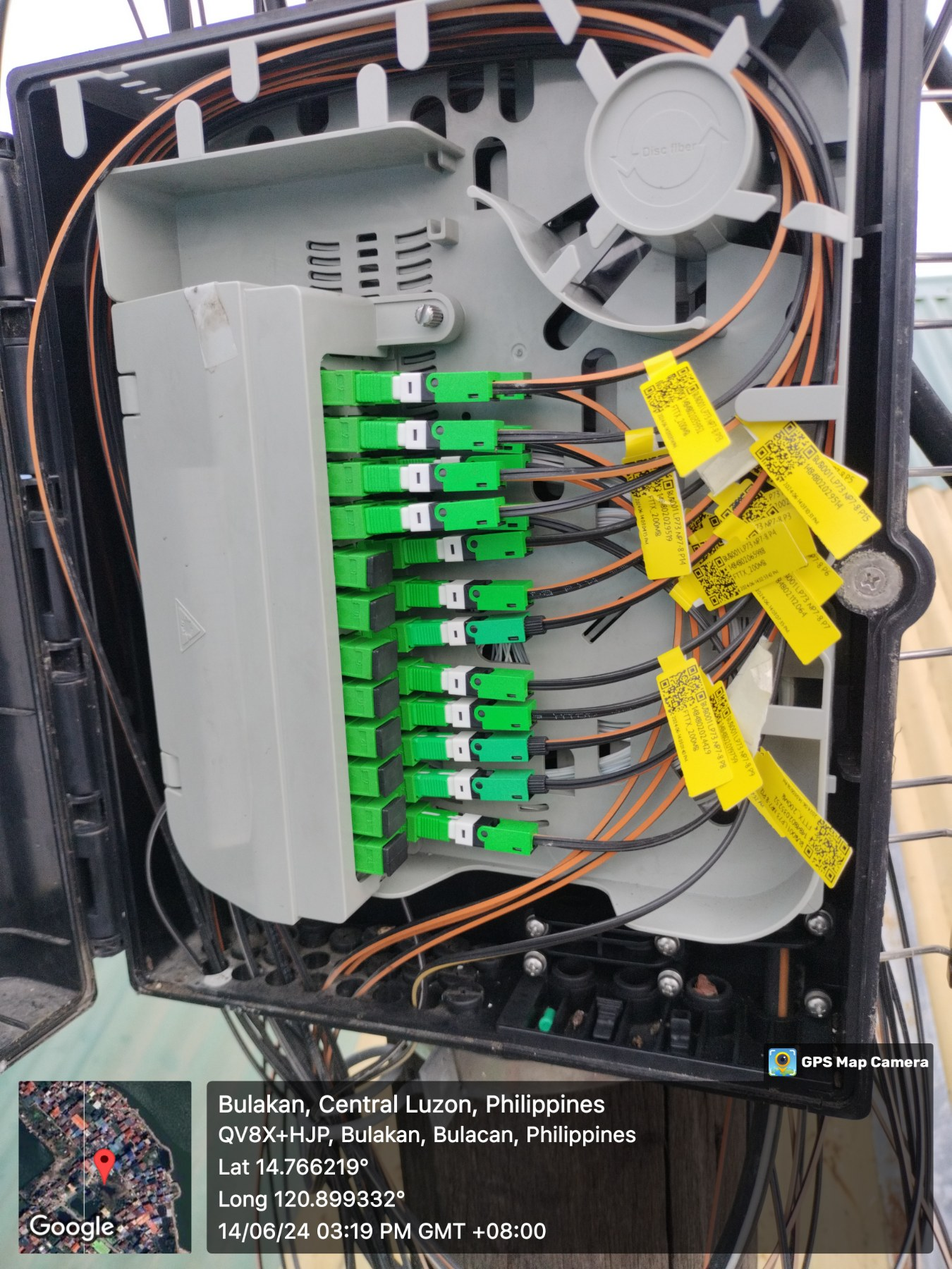occupied: (364, 496, 508, 540), (406, 609, 550, 652), (418, 807, 541, 856), (410, 659, 539, 704), (354, 371, 501, 409), (363, 458, 506, 494), (414, 764, 549, 802), (357, 418, 503, 453), (403, 529, 534, 568), (412, 694, 542, 731), (399, 451, 532, 486), (400, 420, 532, 454), (407, 578, 537, 612), (404, 500, 532, 534), (399, 370, 536, 400), (415, 732, 550, 762)
vacant: (384, 832, 408, 877), (376, 679, 400, 719), (378, 718, 402, 758), (374, 642, 398, 680), (372, 594, 395, 633), (382, 755, 403, 797), (368, 551, 393, 586), (386, 796, 406, 837)
